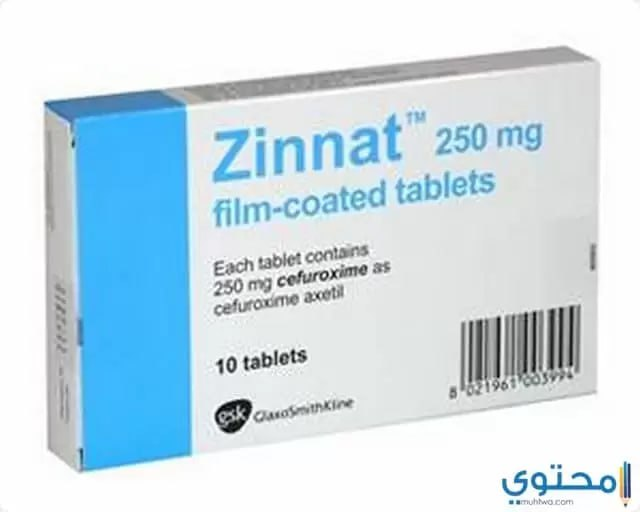Medicine: (40, 47, 610, 479)
